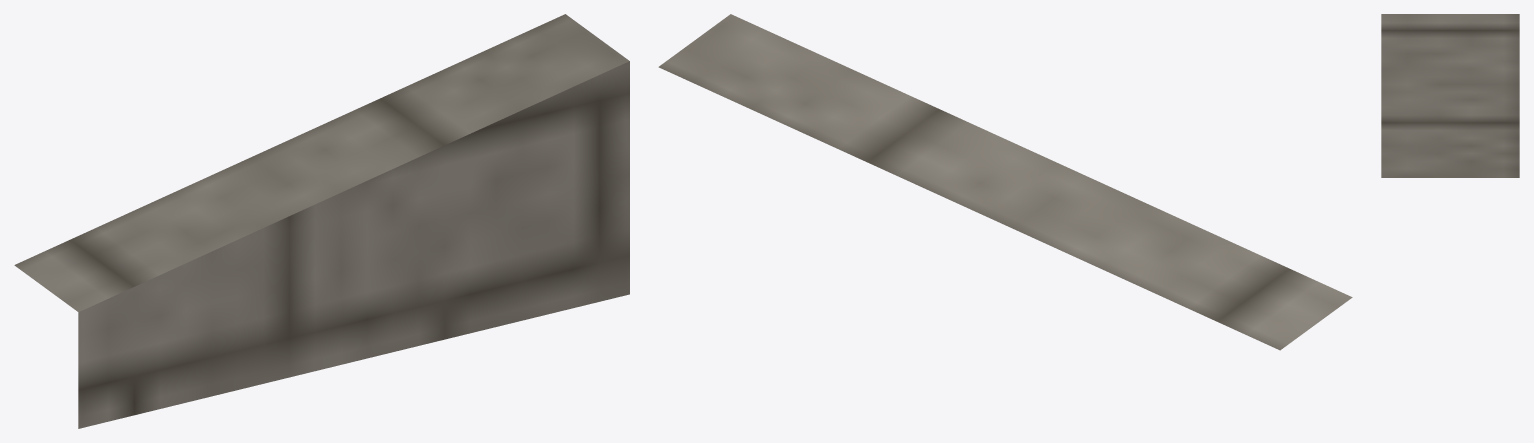
File: tunel_silnicni_zed_1_z.glb
3 renders of one model, left to right at view 1: azimuth 30°, elevation 25°; view 2: azimuth 150°, elevation 25°; view 3: azimuth 270°, elevation 25°, orthographic. The views are drawn at different scales.
Visible parts, largest first — view 1: tunel_silnicni_zed_1_z; view 2: tunel_silnicni_zed_1_z; view 3: tunel_silnicni_zed_1_z.
Boxes of the visible parts, left/top/right/bottom form: tunel_silnicni_zed_1_z: left=14, top=14, right=629, bottom=428; tunel_silnicni_zed_1_z: left=658, top=14, right=1352, bottom=350; tunel_silnicni_zed_1_z: left=1381, top=14, right=1519, bottom=177.
Size of the model in its own units: 4.95 by 2 by 1.
Materials: 1 (1 with a texture image).
